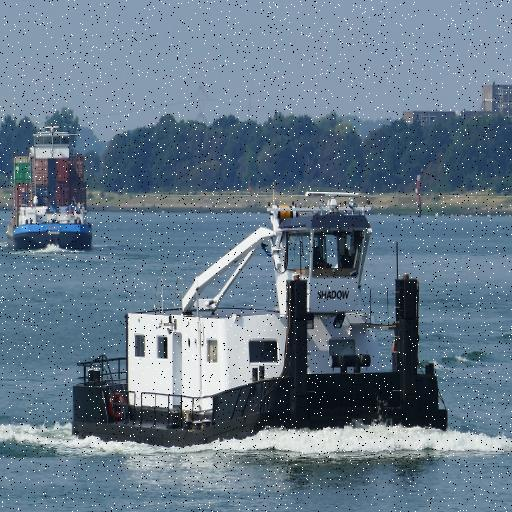tugboat: (69, 184, 454, 457)
